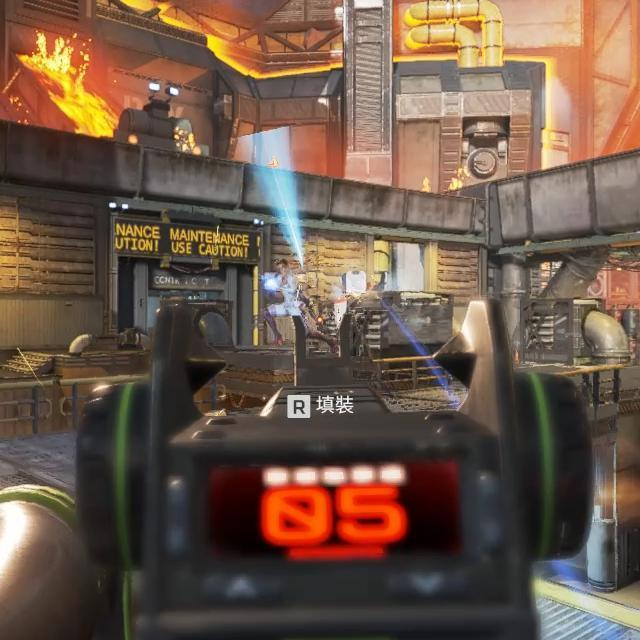avatar: (259, 256, 307, 349)
